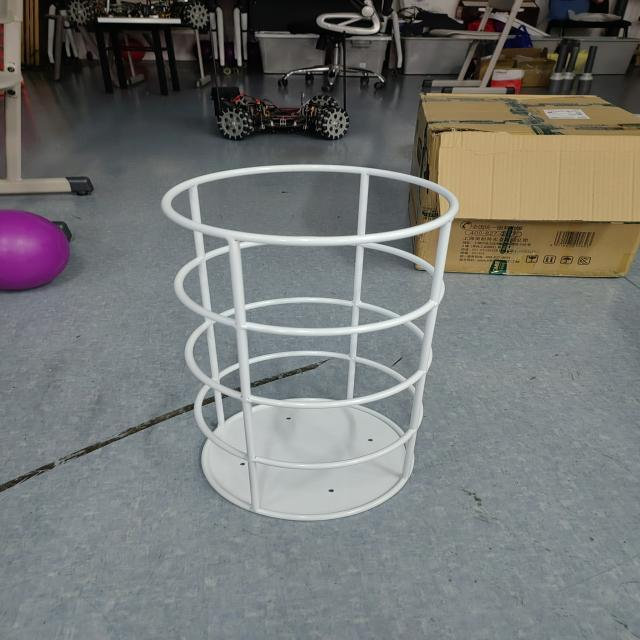P: (0, 206, 70, 294)
S: (156, 160, 467, 530)
